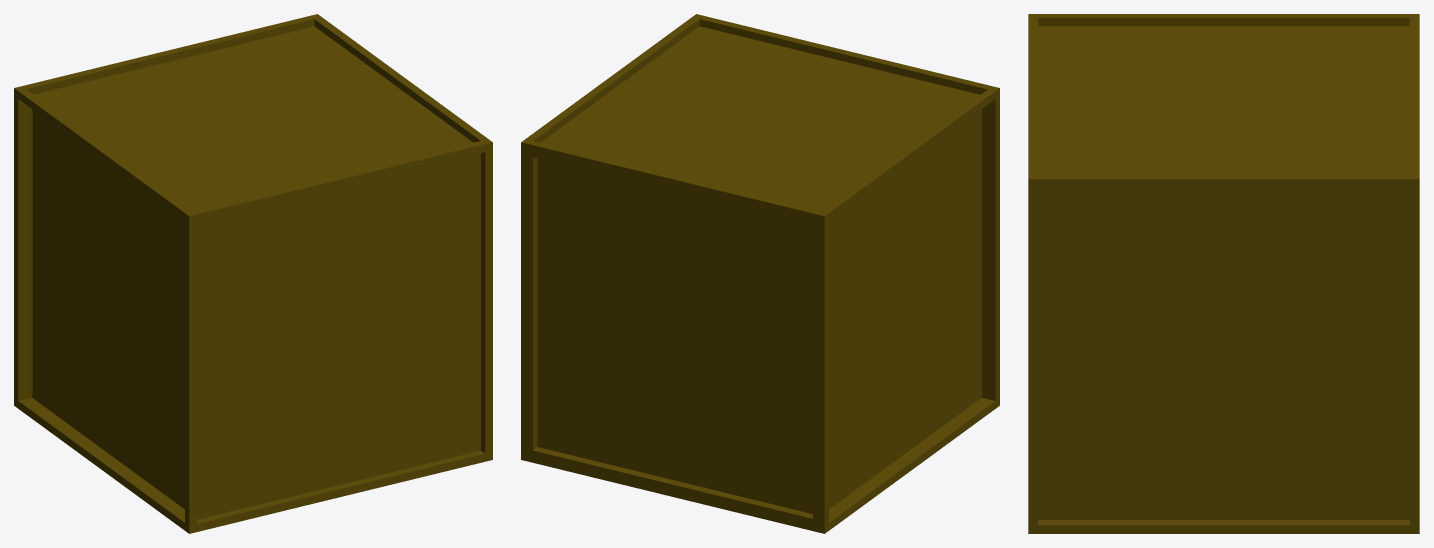
File: dirt.glb
3 renders of one model, left to right at view 1: azimuth 30°, elevation 25°; view 2: azimuth 150°, elevation 25°; view 3: azimuth 270°, elevation 25°, orthographic. The views are drawn at different scales.
Visible parts, largest first — view 1: Cube.010; view 2: Cube.010; view 3: Cube.010.
Part boxes in pixels (bbox=[...]): Cube.010: bbox=[14, 14, 492, 533]; Cube.010: bbox=[521, 14, 999, 533]; Cube.010: bbox=[1028, 14, 1419, 533].
Size of the model in its own units: 2 by 2 by 2.
